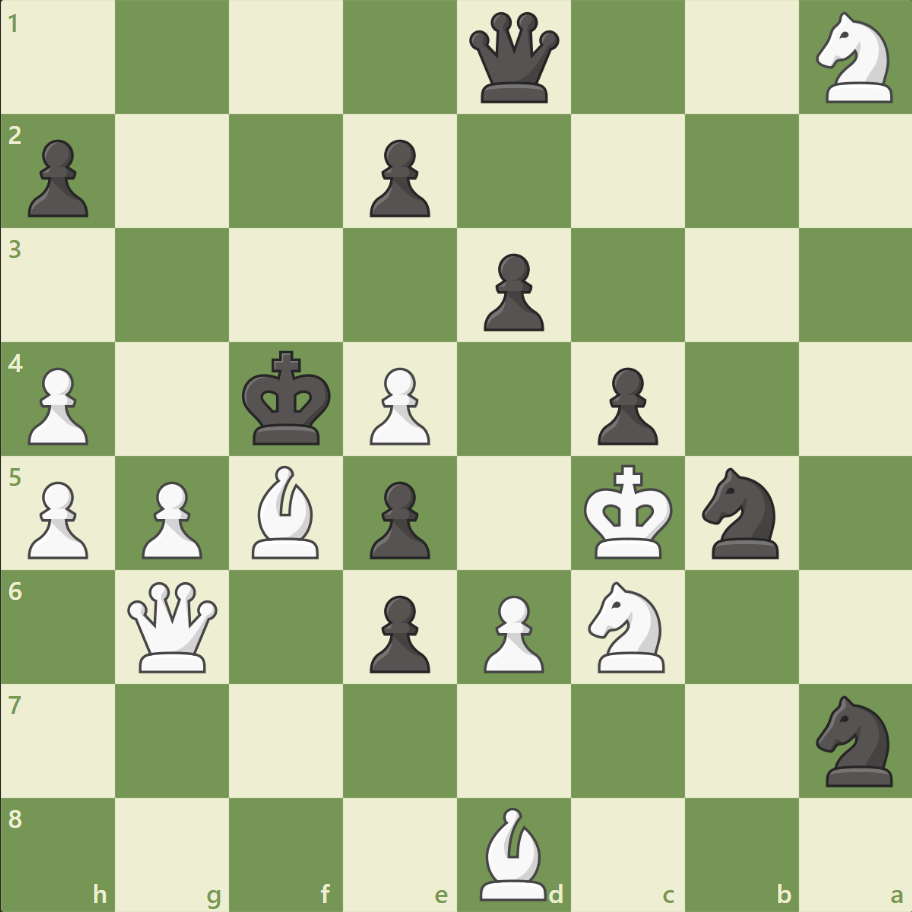B: (471, 801, 555, 904), (244, 460, 328, 563)
K: (579, 458, 679, 566)
N: (806, 7, 903, 110), (579, 575, 676, 677)
P: (474, 586, 549, 677), (133, 473, 208, 564), (20, 473, 95, 564), (20, 359, 95, 450), (361, 359, 435, 450)
Q: (124, 576, 223, 676)
k: (238, 344, 338, 452)
n: (806, 688, 903, 791), (692, 461, 789, 564)
p: (474, 246, 549, 337), (20, 132, 95, 223), (361, 586, 435, 677), (361, 473, 435, 564), (588, 359, 662, 450), (361, 132, 435, 223)
q: (464, 9, 563, 108)
